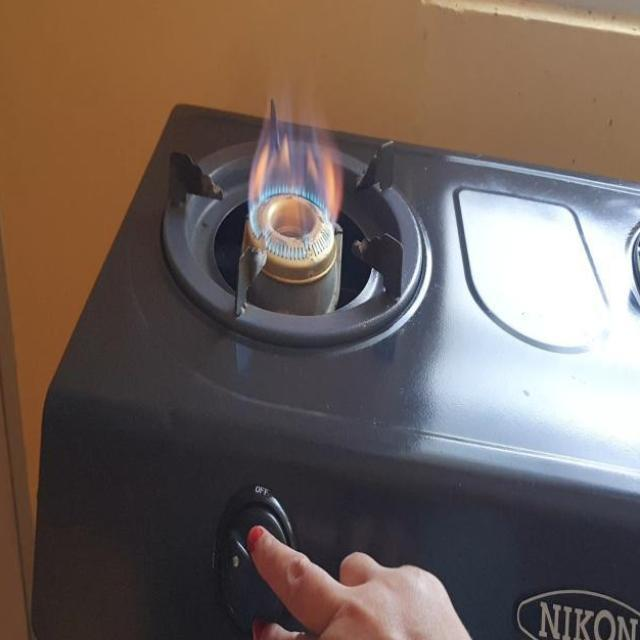smoke: (238, 54, 350, 284)
